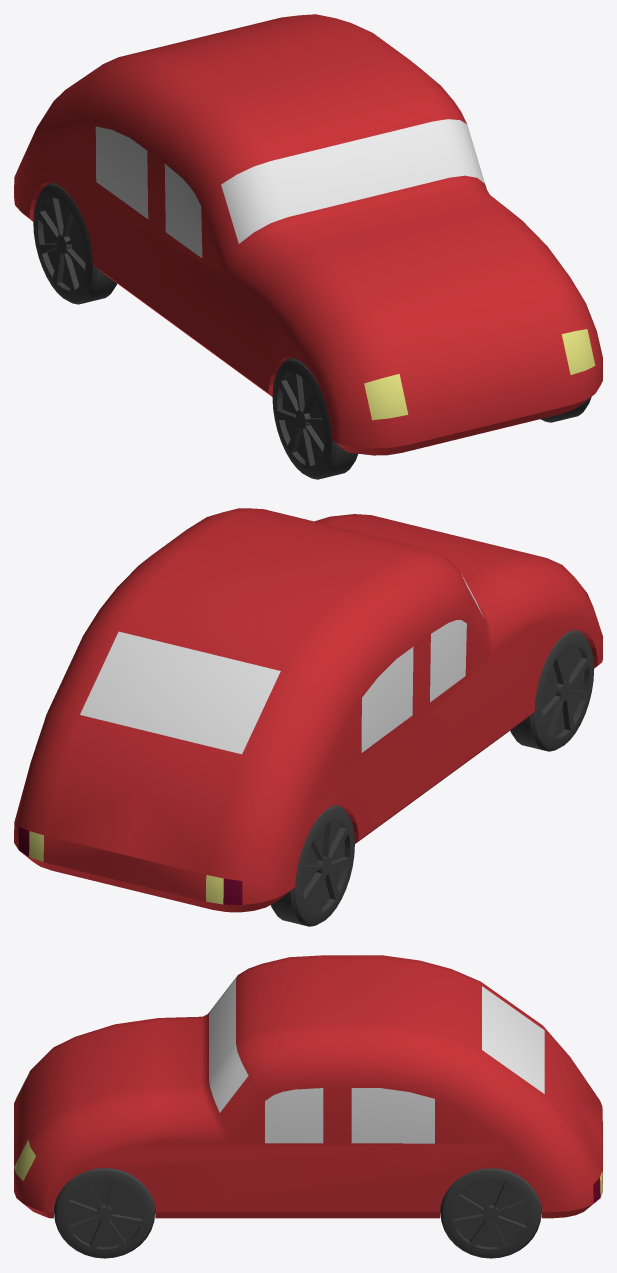
The model's file is Car.fbx.
The picture shows the model from 3 angles, top to bottom: view 1: azimuth 30°, elevation 25°; view 2: azimuth 150°, elevation 25°; view 3: azimuth 270°, elevation 25°; orthographic projection. The views are drawn at different scales.
Parts seen in each view (by area): view 1: Carroseriieee, Wheels; view 2: Carroseriieee, Wheels; view 3: Carroseriieee, Wheels.
Part boxes in pixels (box(x1,y1,x2,y2)): Carroseriieee: box(14, 14, 602, 455); Wheels: box(33, 183, 591, 479); Carroseriieee: box(14, 508, 602, 912); Wheels: box(270, 629, 594, 926); Carroseriieee: box(14, 955, 602, 1218); Wheels: box(54, 1168, 541, 1258).
Bounding box in the file's own units: 155 × 149 × 368.
